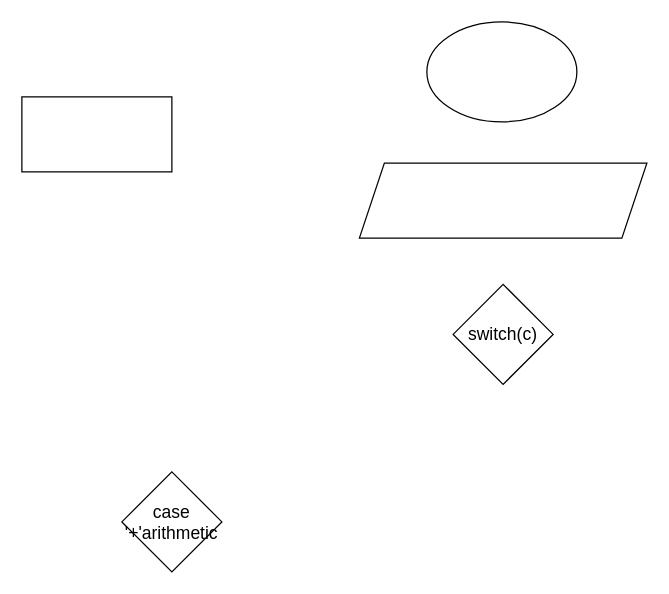
This 669x594 diagram has some shape labels left out. Here are the shapes that lost their labels. From the top down, the centre of each, then its label:
At pixel 501 71: "START".
At pixel 502 200: "n1=Input a number n2=Input a number c=Input a arithmetic operation".
